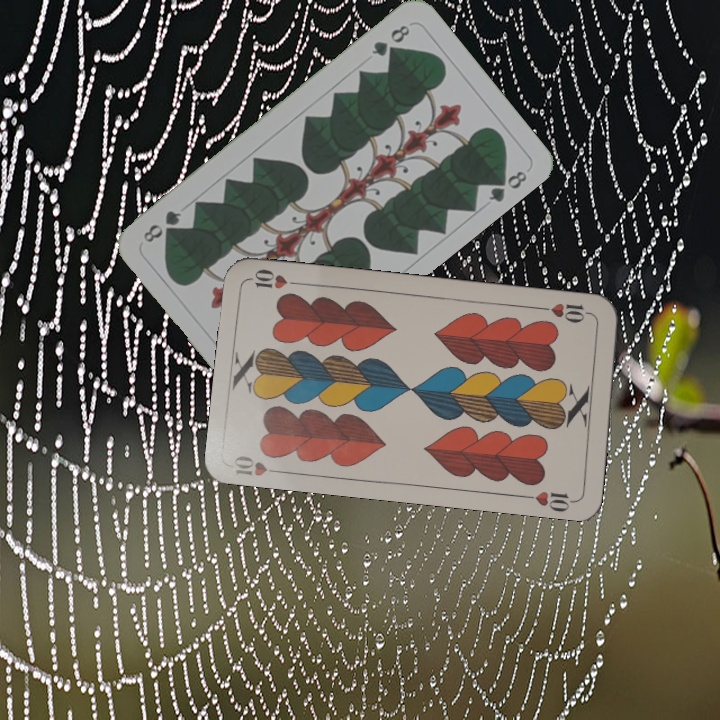G8: (367, 20, 413, 60)
H10: (229, 451, 287, 479), (536, 299, 596, 326)
